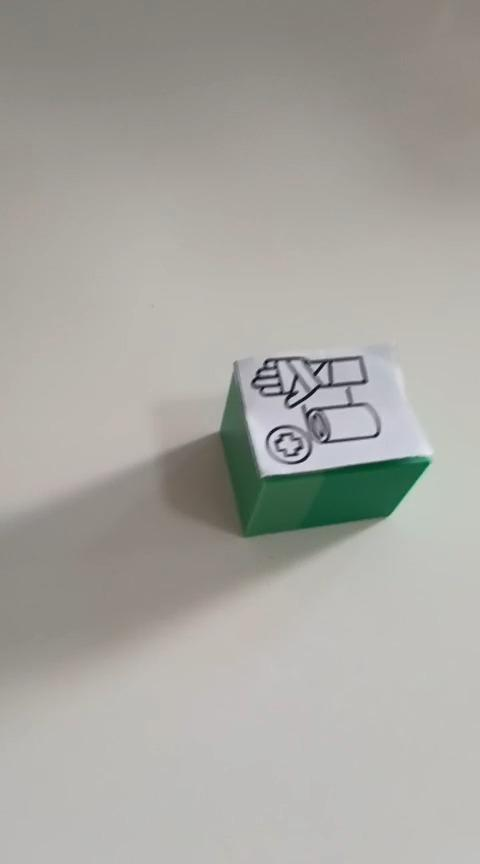Bandages: (218, 341, 433, 537)
